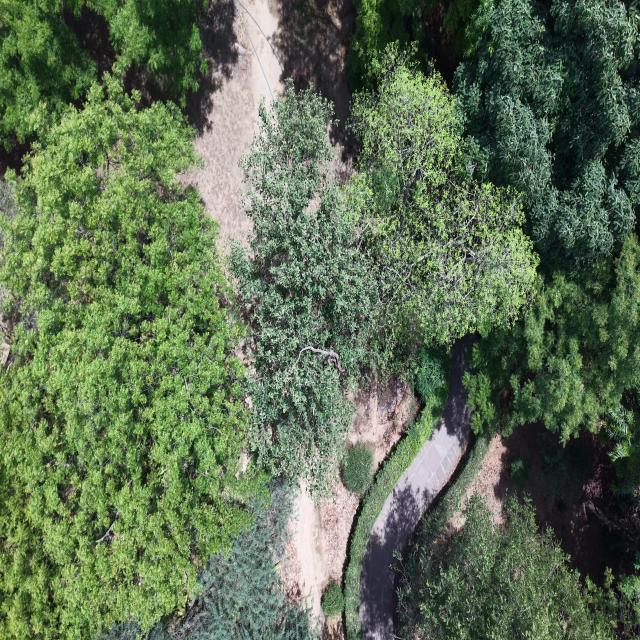DRY_AREA: (183, 0, 353, 249), (185, 0, 354, 246), (187, 0, 353, 246), (467, 425, 618, 584), (189, 0, 282, 246), (282, 480, 359, 639), (463, 435, 506, 524)
PATHWAYS: (360, 336, 472, 639)
VEGETATION_TREE: (0, 0, 639, 639), (0, 74, 435, 638), (232, 48, 537, 625), (0, 78, 255, 639), (231, 47, 537, 486), (443, 0, 639, 608), (456, 0, 639, 502), (231, 81, 378, 487), (350, 47, 537, 354), (465, 234, 639, 531), (444, 0, 639, 264), (442, 0, 639, 259), (455, 0, 639, 266), (466, 235, 639, 441), (398, 494, 618, 639), (0, 0, 206, 149), (344, 350, 449, 639), (143, 482, 316, 639), (344, 399, 445, 639), (172, 481, 316, 639), (0, 0, 97, 149), (398, 435, 491, 586), (87, 0, 207, 106), (345, 0, 478, 89), (410, 434, 491, 546), (346, 0, 432, 88), (510, 424, 589, 510), (347, 0, 417, 87), (608, 485, 639, 607), (604, 395, 639, 495), (609, 553, 639, 637), (440, 0, 479, 60), (414, 345, 449, 405), (341, 442, 374, 495), (99, 622, 166, 639), (322, 581, 344, 617), (0, 177, 16, 220), (509, 458, 529, 490)
